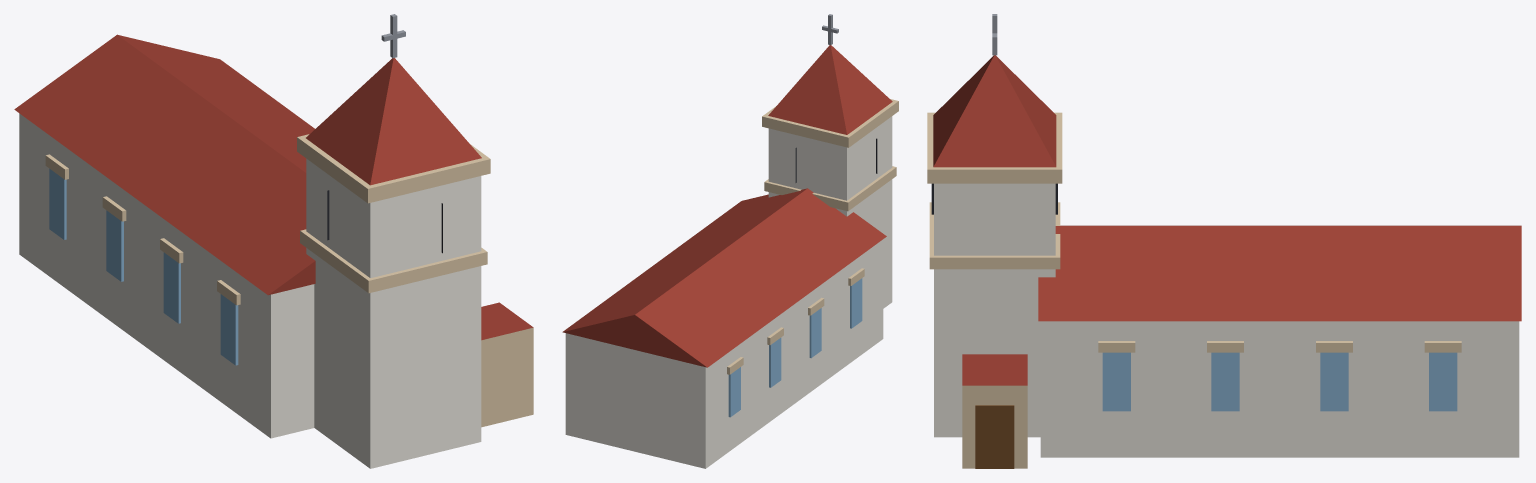
The model's file is iglesia_torre.obj.
3 renders of one model, left to right at view 1: azimuth 30°, elevation 25°; view 2: azimuth 150°, elevation 25°; view 3: azimuth 270°, elevation 25°, orthographic. The views are drawn at different scales.
Visible parts, largest first — view 1: iglesia_torre; view 2: iglesia_torre; view 3: iglesia_torre.
Part boxes in pixels (left/top/right/bottom): iglesia_torre: left=14, top=14, right=533, bottom=468; iglesia_torre: left=562, top=14, right=898, bottom=468; iglesia_torre: left=927, top=14, right=1521, bottom=468.
Bounding box in the file's own units: 11.45 × 20.1 × 27.3.
